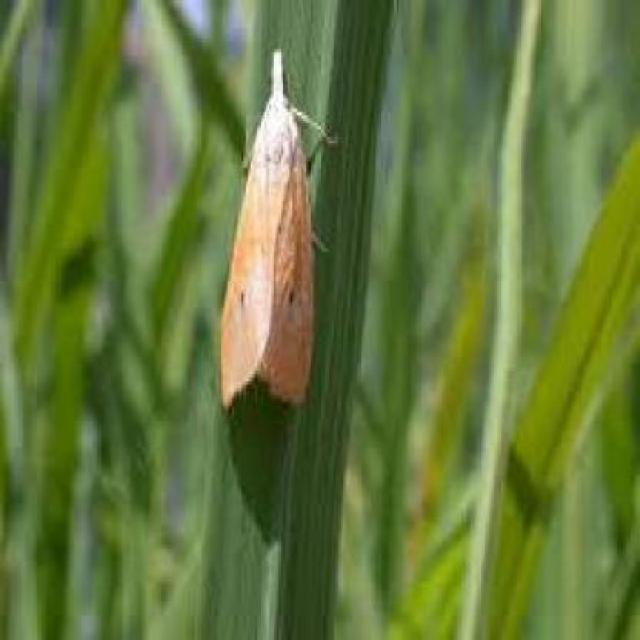stem-borer: (218, 46, 342, 412)
